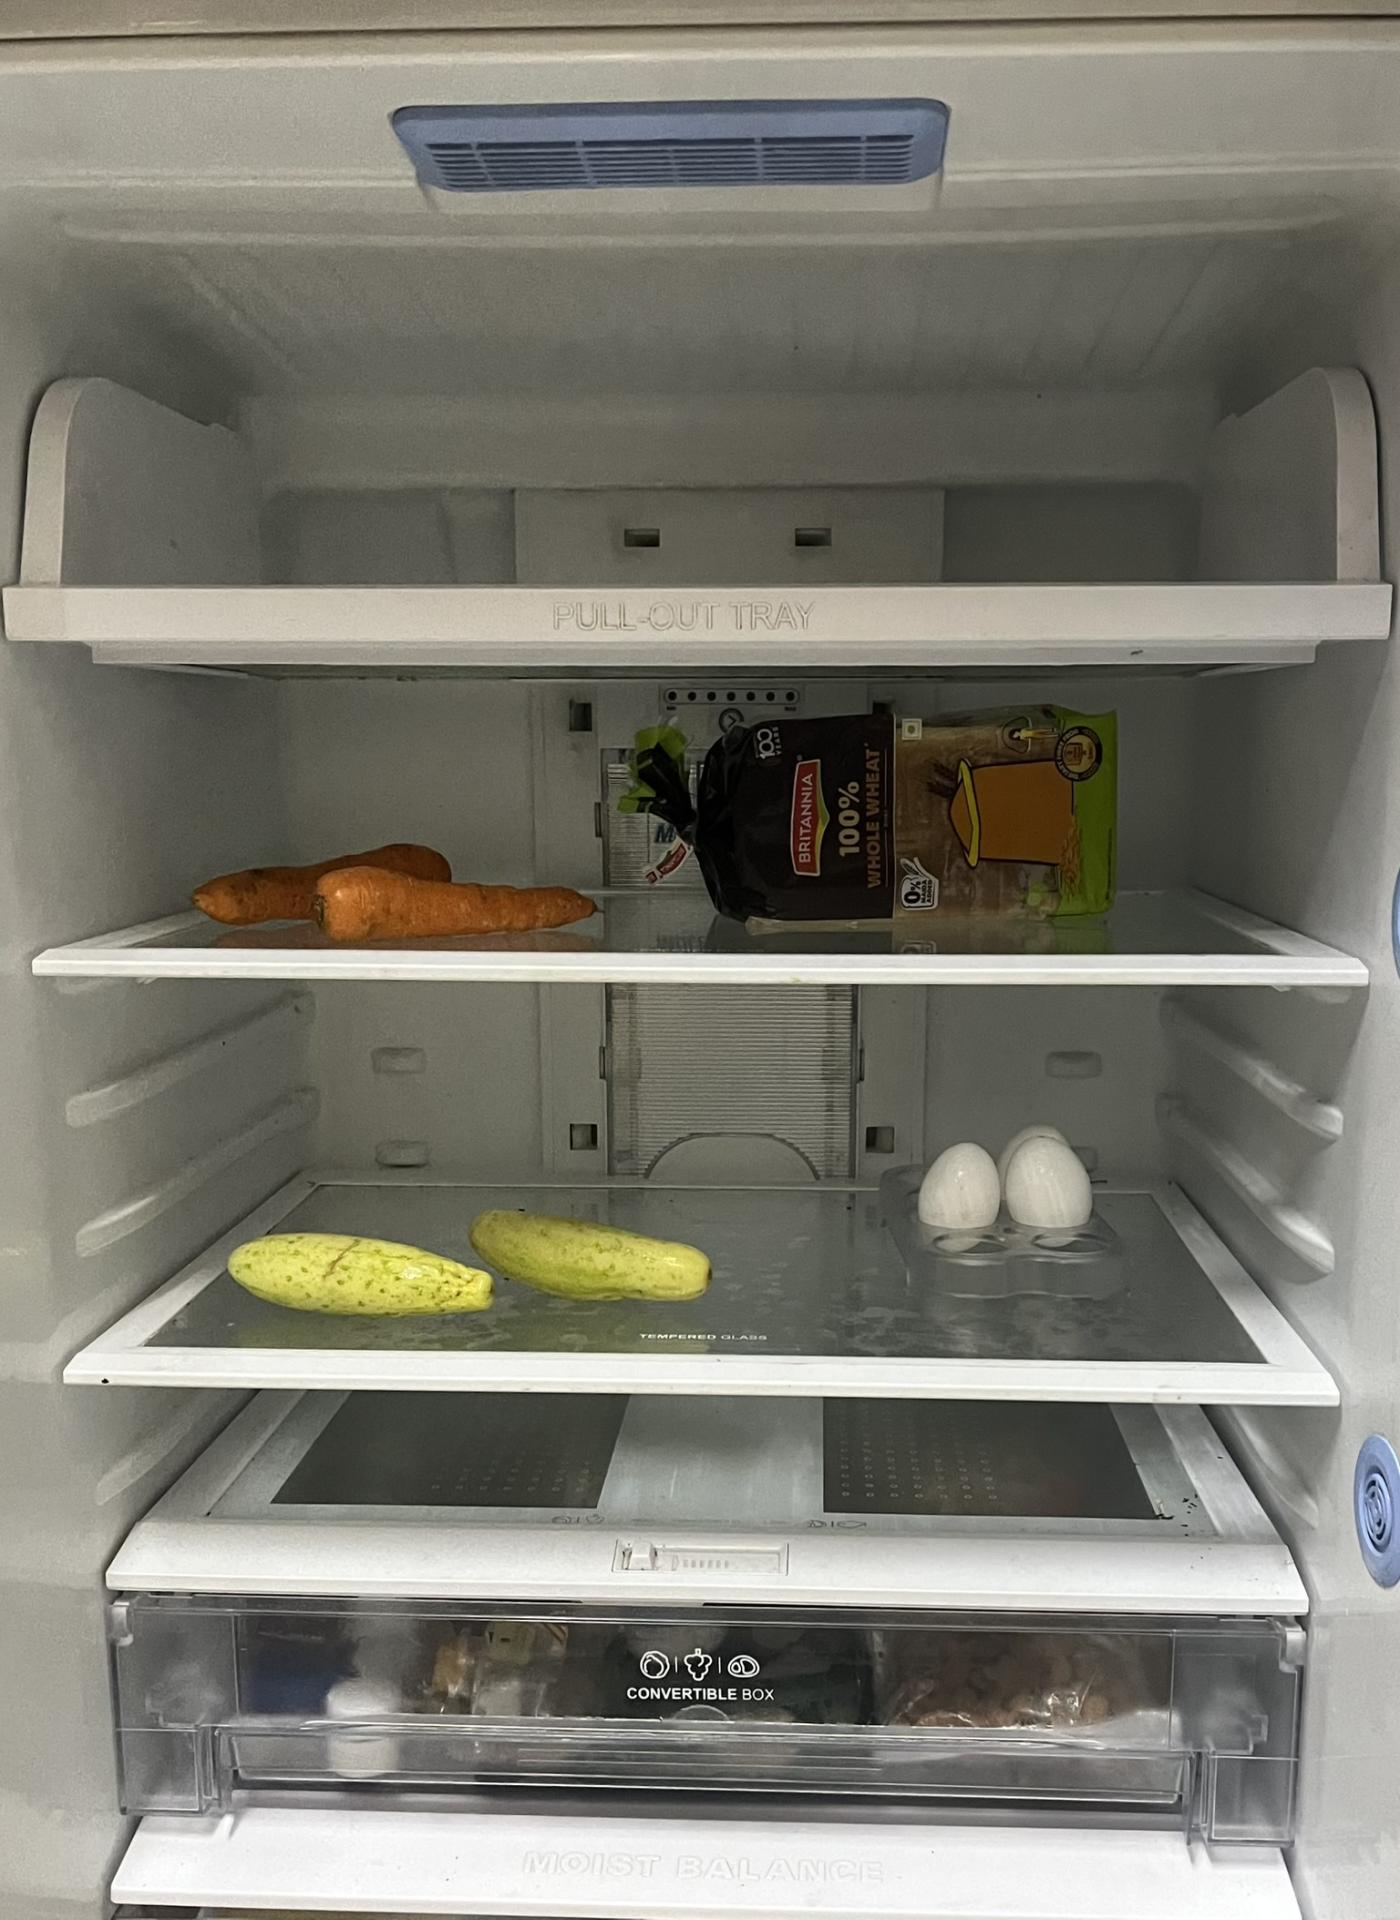bread: (635, 704, 1126, 926)
carrots: (200, 836, 607, 935)
cucumber: (218, 1228, 494, 1325), (461, 1209, 711, 1306)
egg: (921, 1121, 1093, 1245)
